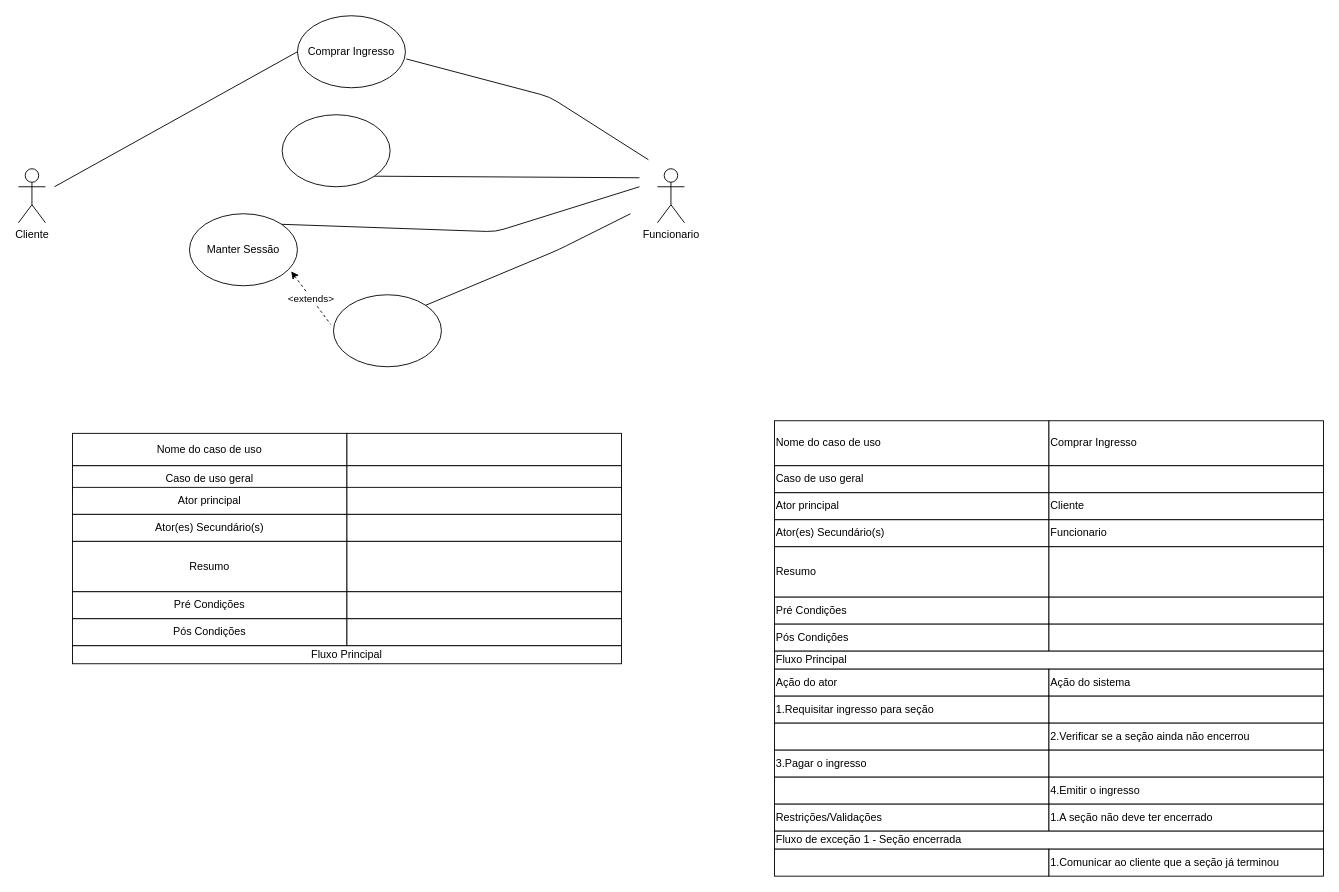
Some shapes in this 1339 by 892 pixel diagram are drawn without their labels. Each missing label, with the centre of its shape:
Manter Filme: the point at 387,330
Manter Sala: the point at 335,150
